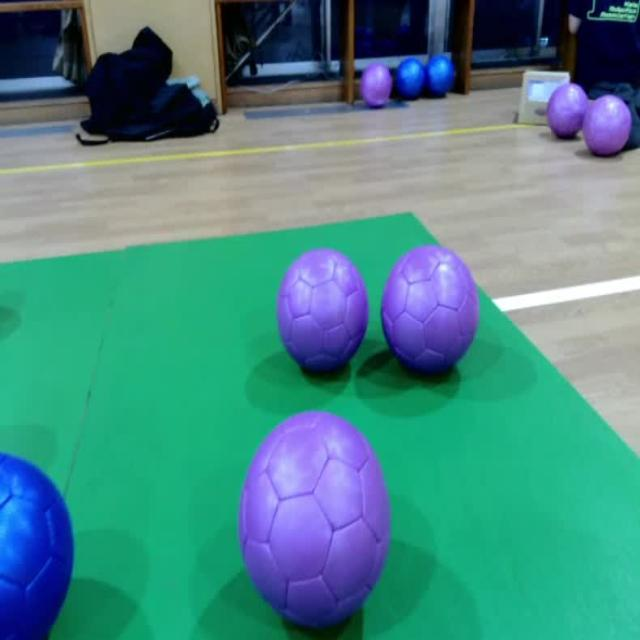blue_ball: (396, 57, 426, 100), (428, 54, 456, 99)
purple_ball: (238, 410, 392, 630), (273, 244, 370, 379), (380, 244, 478, 376), (584, 98, 630, 156), (546, 83, 589, 139), (360, 63, 395, 109)
